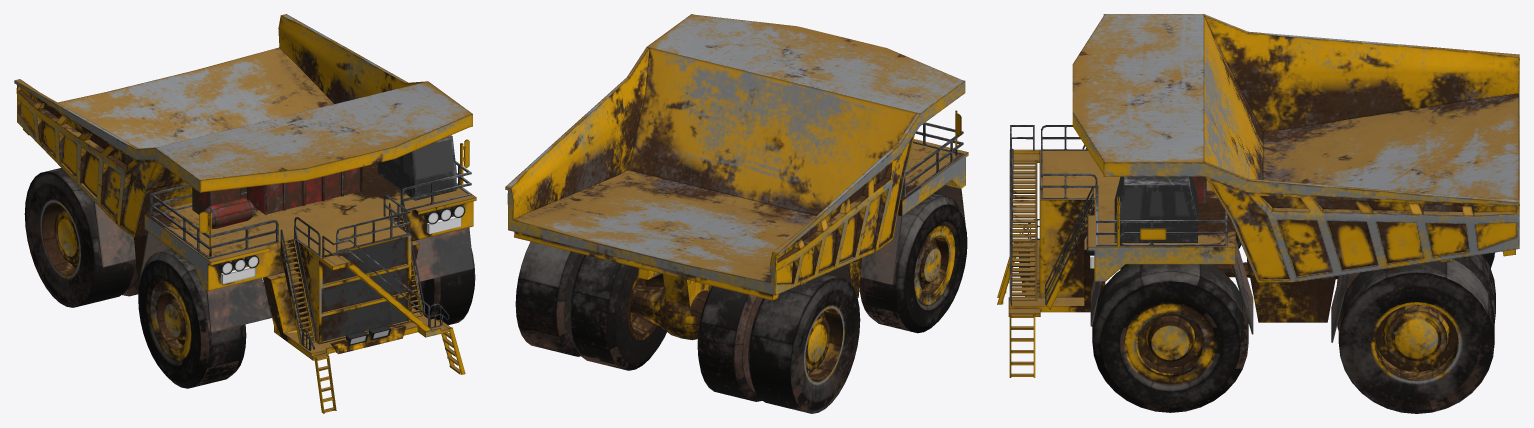
3 views of the same model, side by side, from view 1: azimuth 30°, elevation 25°; view 2: azimuth 150°, elevation 25°; view 3: azimuth 270°, elevation 25° (orthographic). The views are drawn at different scales.
Visible parts, largest first — view 1: dumper; view 2: dumper; view 3: dumper.
Boxes of the visible parts, box(x1,y1,x2,y2) form: dumper: box(14, 14, 476, 413); dumper: box(505, 14, 968, 413); dumper: box(997, 14, 1519, 413).
Size of the model in its own units: 8.59 by 6.69 by 12.53.
Materials: 1 (1 with a texture image).
